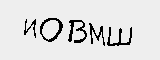В: (67, 18, 88, 44)
И: (20, 15, 37, 40)
М: (88, 22, 106, 46)
О: (39, 17, 63, 41)
Ш: (107, 24, 135, 47)
